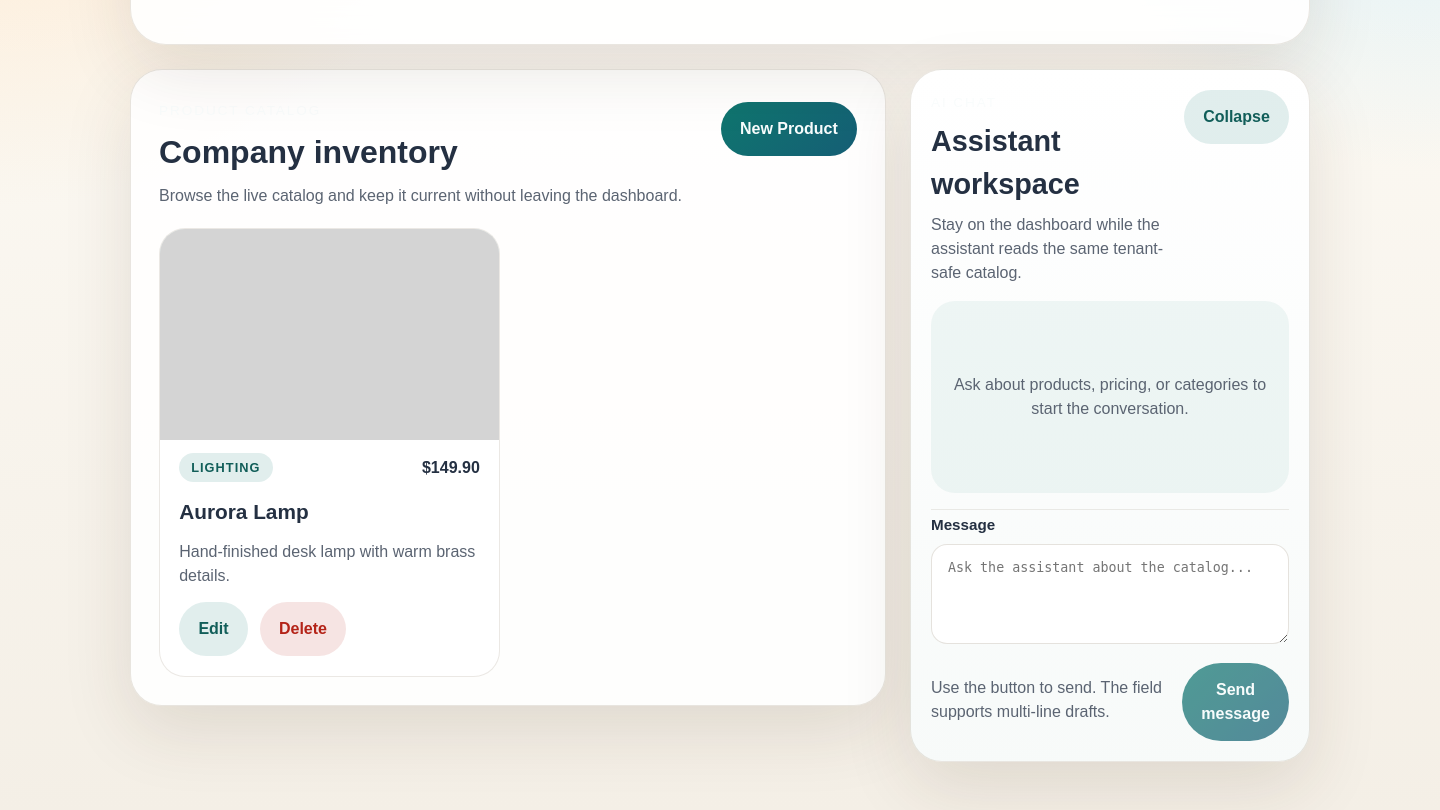
it: DashboardPage integration › shows an API error when sending a chat message fails
(page scrolled)
Expected: the heading "Company inventory" is shown, [159,134,458,170]
Type "Need recommendations" into the text box labelled "Message" at (1110, 594), box [931,544,1289,644]
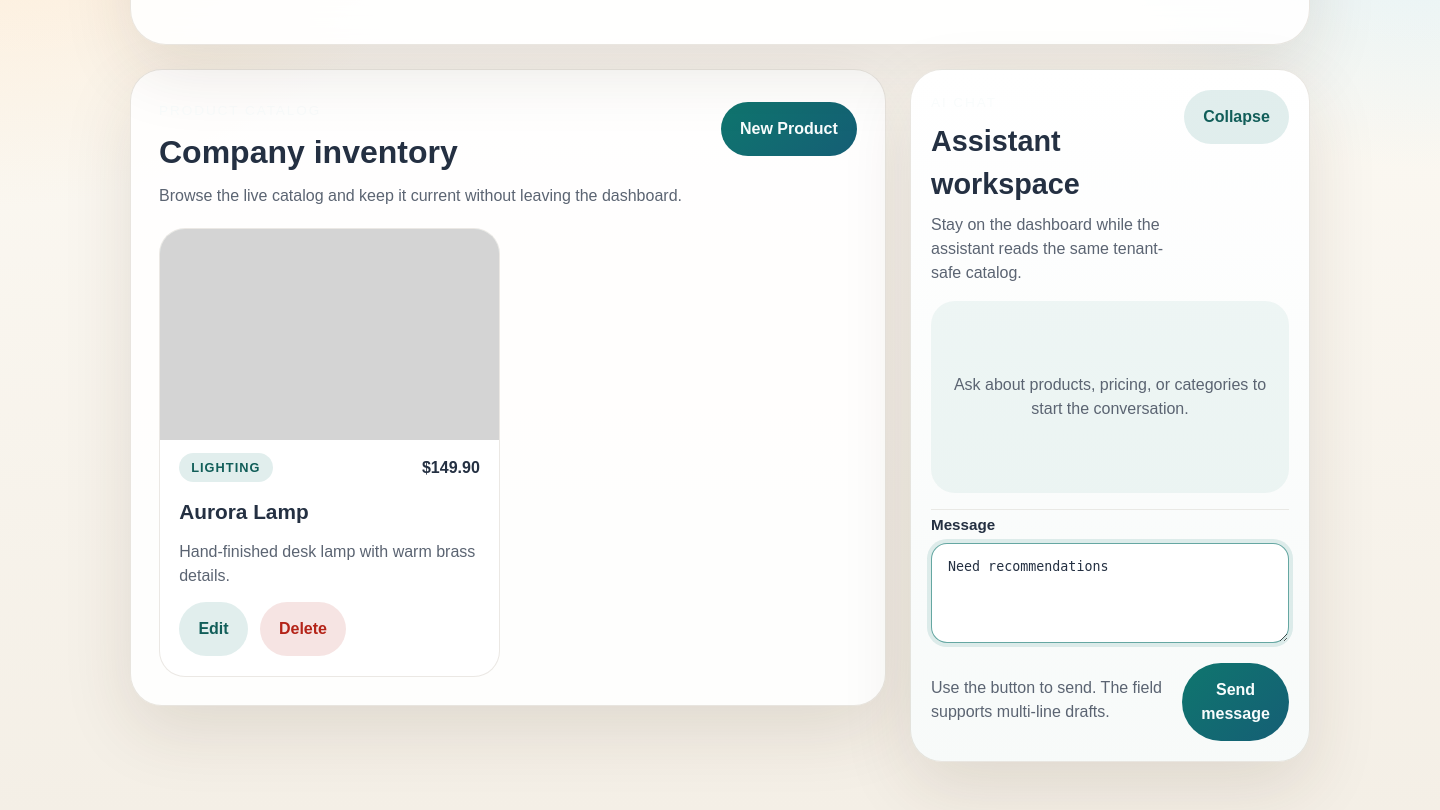
Click the button "Send message" at (1236, 702), box [1182,662,1289,741]
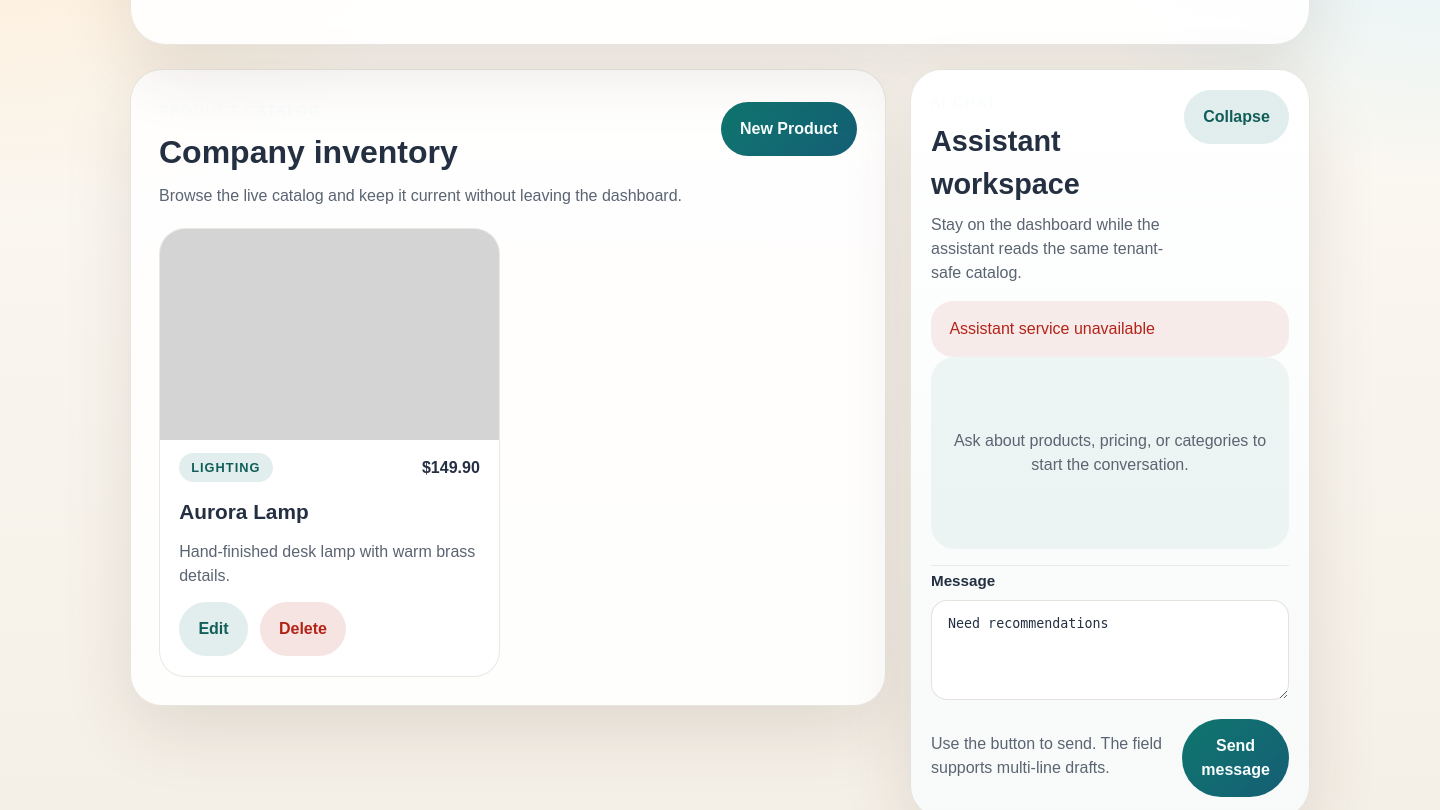
Now the message reads "Assistant service unavailable", box [949,320,1155,337]
